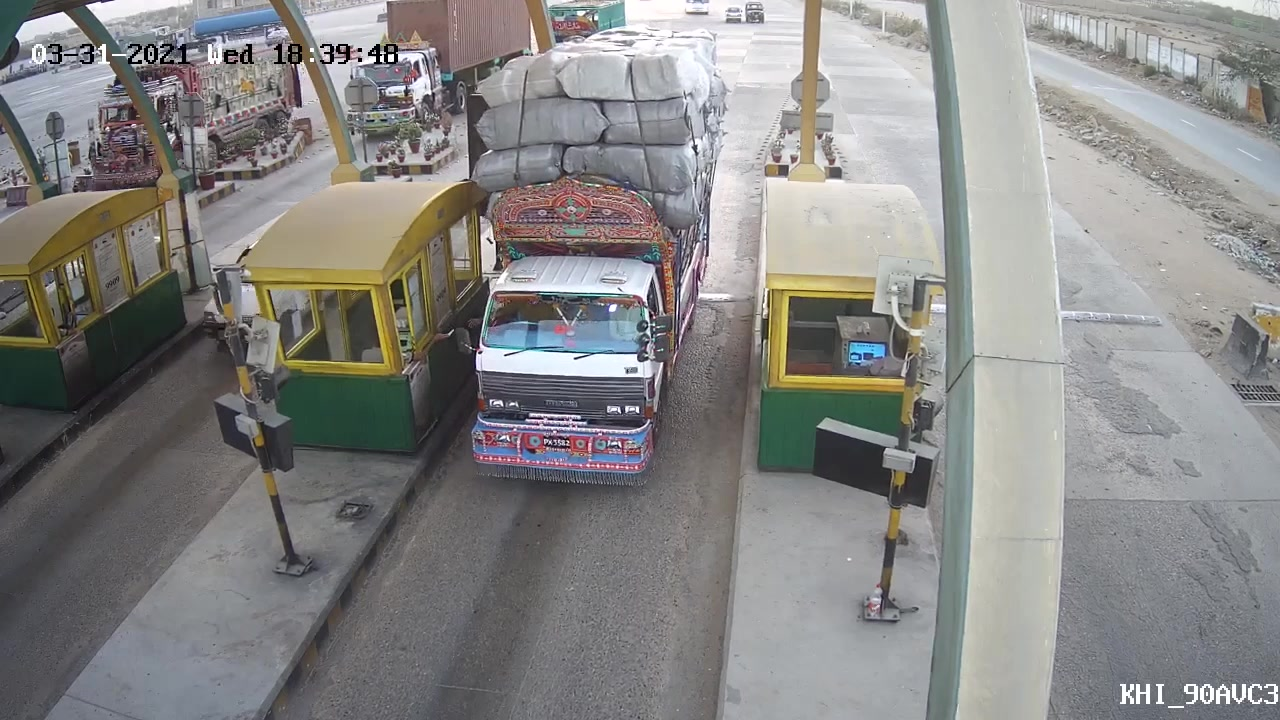F3: (453, 25, 731, 498)
